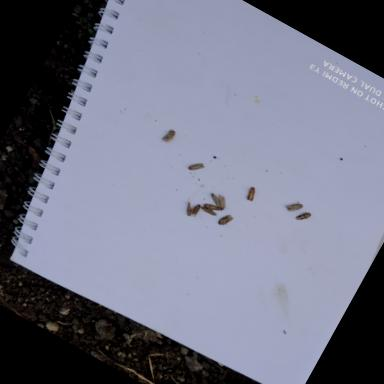pbw: (281, 194, 306, 218), (215, 210, 236, 232), (158, 125, 178, 147), (292, 208, 314, 228), (186, 157, 206, 177), (212, 192, 231, 212), (204, 191, 226, 208), (241, 185, 260, 204), (187, 202, 204, 222), (198, 204, 219, 220), (181, 201, 197, 219), (202, 200, 222, 214)
